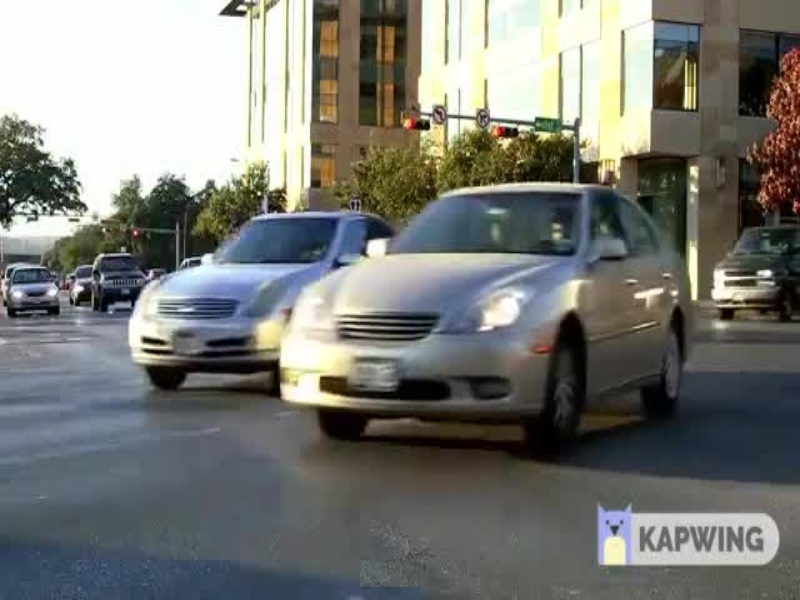car: (283, 181, 705, 443), (125, 186, 393, 405)
van: (714, 219, 800, 323)
